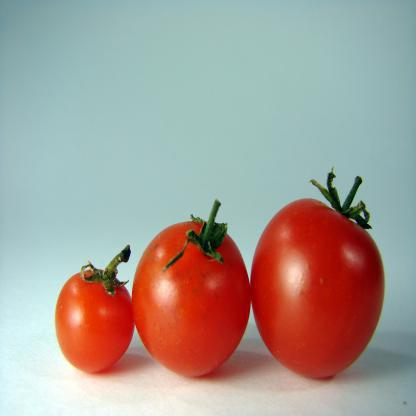tomato: (252, 190, 390, 380), (132, 215, 252, 382), (53, 259, 135, 379)
